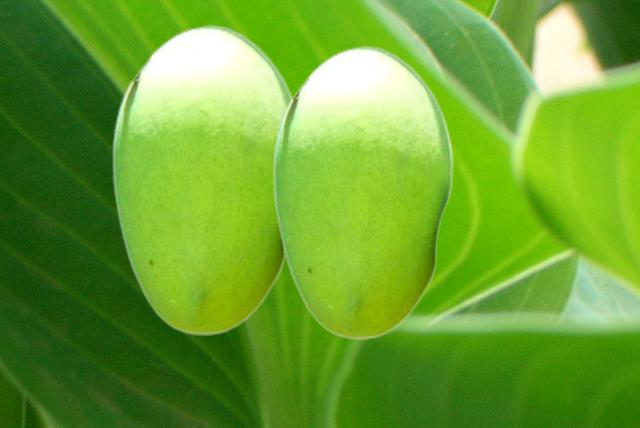green_mango: (111, 24, 294, 334), (272, 45, 452, 338)
